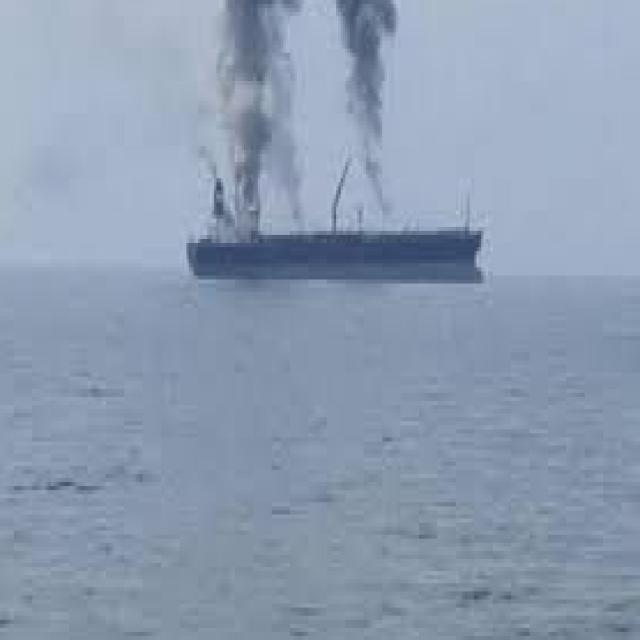cargoship: (148, 154, 502, 314)
